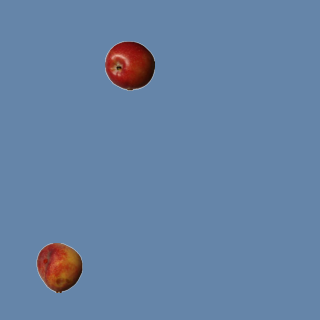Apple Braeburn: (104, 40, 154, 90)
Peach: (34, 242, 84, 292)
